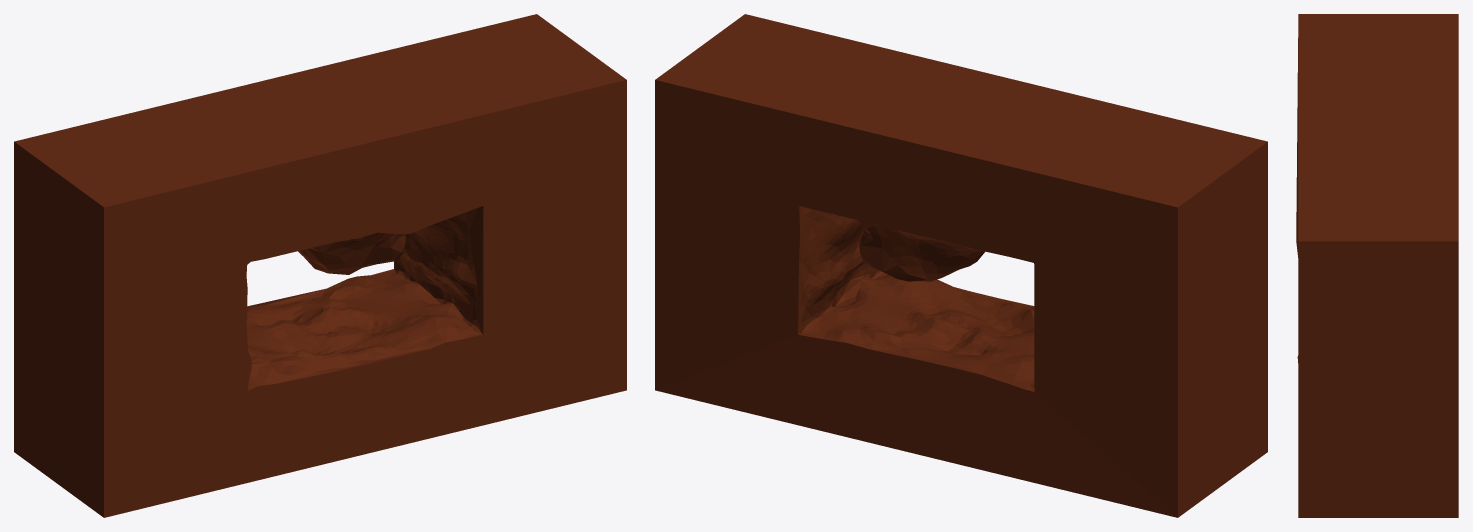
Rendered from BaseWorld_Level_04.glb.
3 renders of one model, left to right at view 1: azimuth 30°, elevation 25°; view 2: azimuth 150°, elevation 25°; view 3: azimuth 270°, elevation 25°, orthographic. The views are drawn at different scales.
Visible parts, largest first — view 1: Cube; view 2: Cube; view 3: Cube.
Boxes of the visible parts, left/top/right/bottom form: Cube: left=14, top=14, right=626, bottom=517; Cube: left=655, top=14, right=1267, bottom=517; Cube: left=1296, top=14, right=1458, bottom=517.
Size of the model in its own units: 67.08 by 38.07 by 20.27.
